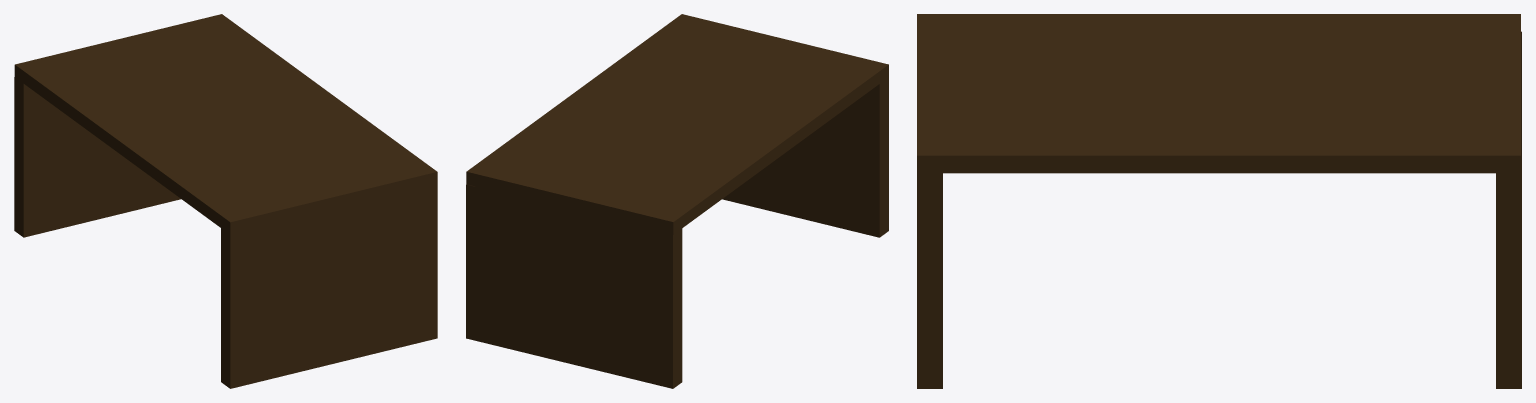
The model's file is desk.glb.
The picture shows the model from 3 angles, left to right: view 1: azimuth 30°, elevation 25°; view 2: azimuth 150°, elevation 25°; view 3: azimuth 270°, elevation 25°; orthographic projection. The views are drawn at different scales.
Visible parts, largest first — view 1: Cube; view 2: Cube; view 3: Cube.
Boxes of the visible parts, box(x1,y1,x2,y2) form: Cube: box(14, 14, 437, 388); Cube: box(466, 14, 888, 388); Cube: box(917, 14, 1521, 388).
Size of the model in its own units: 1.06 by 0.8152 by 1.91.
